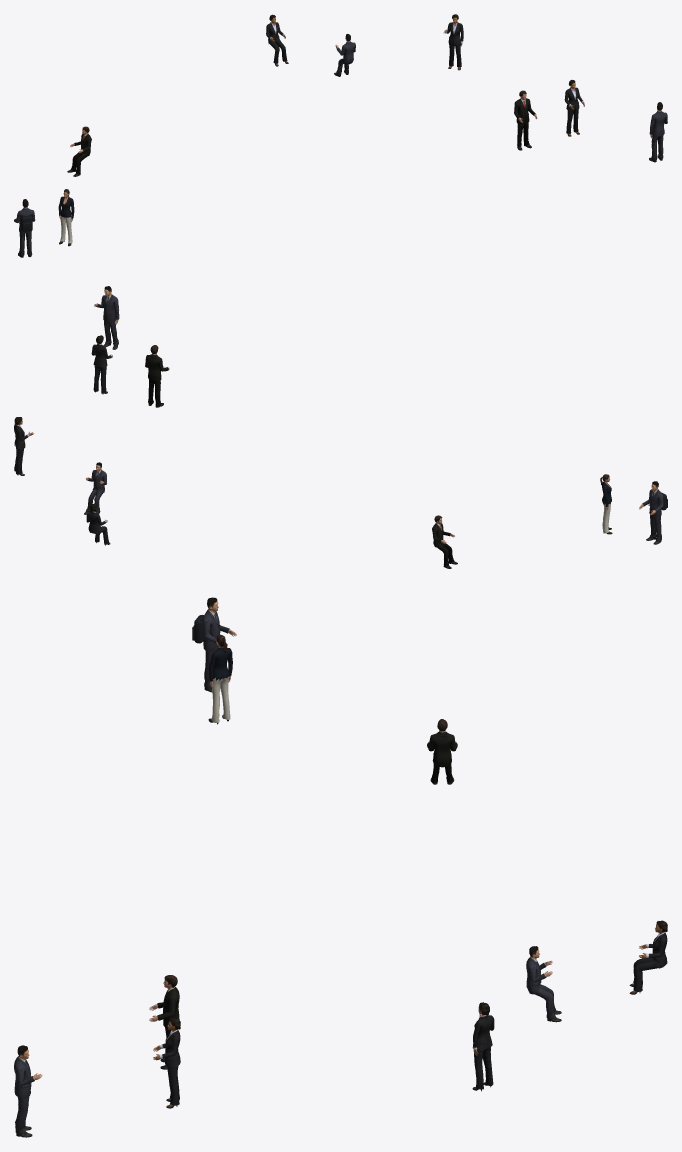
The model's file is grand-rental-visitors.glb.
The picture shows the model from 3 angles, top to bottom: view 1: azimuth 30°, elevation 25°; view 2: azimuth 150°, elevation 25°; view 3: azimuth 270°, elevation 25°; orthographic projection. The views are drawn at different scales.
Visible parts, largest first — view 1: Rocketbox | Business_Female_01 | body | interior, Rocketbox | Business_Male_02 | body | interior, Rocketbox | Business_Male_01 | body | interior, Rocketbox | Business_Female_04 | body | interior; view 2: Rocketbox | Business_Male_02 | body | interior, Rocketbox | Business_Female_01 | body | interior, Rocketbox | Business_Male_01 | body | interior, Rocketbox | Business_Female_04 | body | interior; view 3: Rocketbox | Business_Female_01 | body | interior, Rocketbox | Business_Male_02 | body | interior, Rocketbox | Business_Male_01 | body | interior, Rocketbox | Business_Female_04 | body | interior.
Part boxes in pixels (x1,y1,x2,y2): Rocketbox | Business_Female_01 | body | interior: [266, 14, 584, 136]; Rocketbox | Business_Male_02 | body | interior: [14, 34, 667, 257]; Rocketbox | Business_Male_01 | body | interior: [67, 90, 537, 176]; Rocketbox | Business_Female_04 | body | interior: [58, 189, 74, 246]; Rocketbox | Business_Male_02 | body | interior: [84, 286, 663, 544]; Rocketbox | Business_Female_01 | body | interior: [14, 335, 112, 545]; Rocketbox | Business_Male_01 | body | interior: [145, 345, 457, 568]; Rocketbox | Business_Female_04 | body | interior: [600, 474, 612, 534]; Rocketbox | Business_Female_01 | body | interior: [153, 920, 667, 1108]; Rocketbox | Business_Male_02 | body | interior: [14, 597, 561, 1137]; Rocketbox | Business_Male_01 | body | interior: [149, 719, 457, 1069]; Rocketbox | Business_Female_04 | body | interior: [208, 634, 232, 724].
Bounding box in the file's own units: 19.35 × 1.76 × 11.6.
16 materials, 12 textured.
